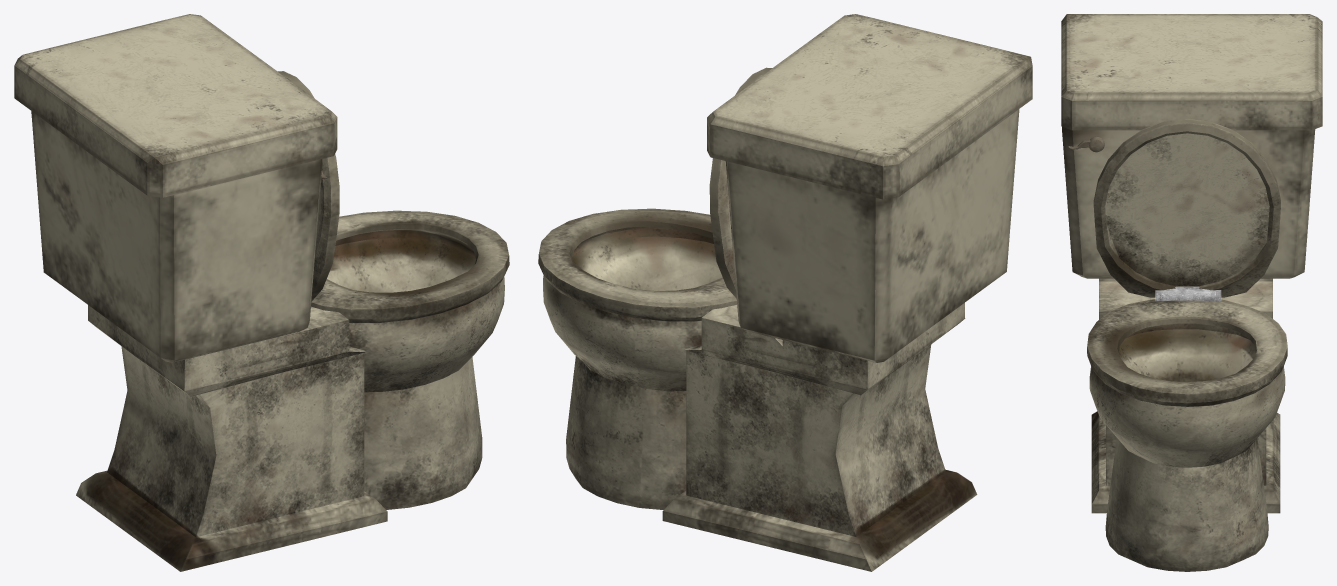
The model's file is toilet.glb.
3 views of the same model, side by side, from view 1: azimuth 30°, elevation 25°; view 2: azimuth 150°, elevation 25°; view 3: azimuth 270°, elevation 25° (orthographic). The views are drawn at different scales.
Parts seen in each view (by area): view 1: pCube23, pCube21, pCylinder2, pCube22, pCylinder3; view 2: pCube23, pCube21, pCylinder2, pCube22, pCylinder3; view 3: pCylinder2, pCube22, pCylinder3, pCube21, pCube23, pCylinder4.
Boxes of the visible parts, <box> form: pCube23: <box>76,305,387,571</box>; pCube21: <box>31,111,322,362</box>; pCylinder2: <box>311,210,509,509</box>; pCube22: <box>14,14,337,197</box>; pCylinder3: <box>278,71,339,301</box>; pCube23: <box>662,303,977,571</box>; pCube21: <box>725,109,1019,362</box>; pCylinder2: <box>538,208,737,509</box>; pCube22: <box>707,14,1032,199</box>; pCylinder3: <box>709,67,771,298</box>; pCylinder2: <box>1087,299,1287,571</box>; pCube22: <box>1061,14,1322,130</box>; pCylinder3: <box>1093,119,1280,297</box>; pCube21: <box>1062,126,1315,278</box>; pCube23: <box>1091,278,1280,513</box>; pCylinder4: <box>1155,286,1221,301</box>.
Size of the model in its own units: 106 by 107 by 64.45.
Materials: 2 (2 with a texture image).
